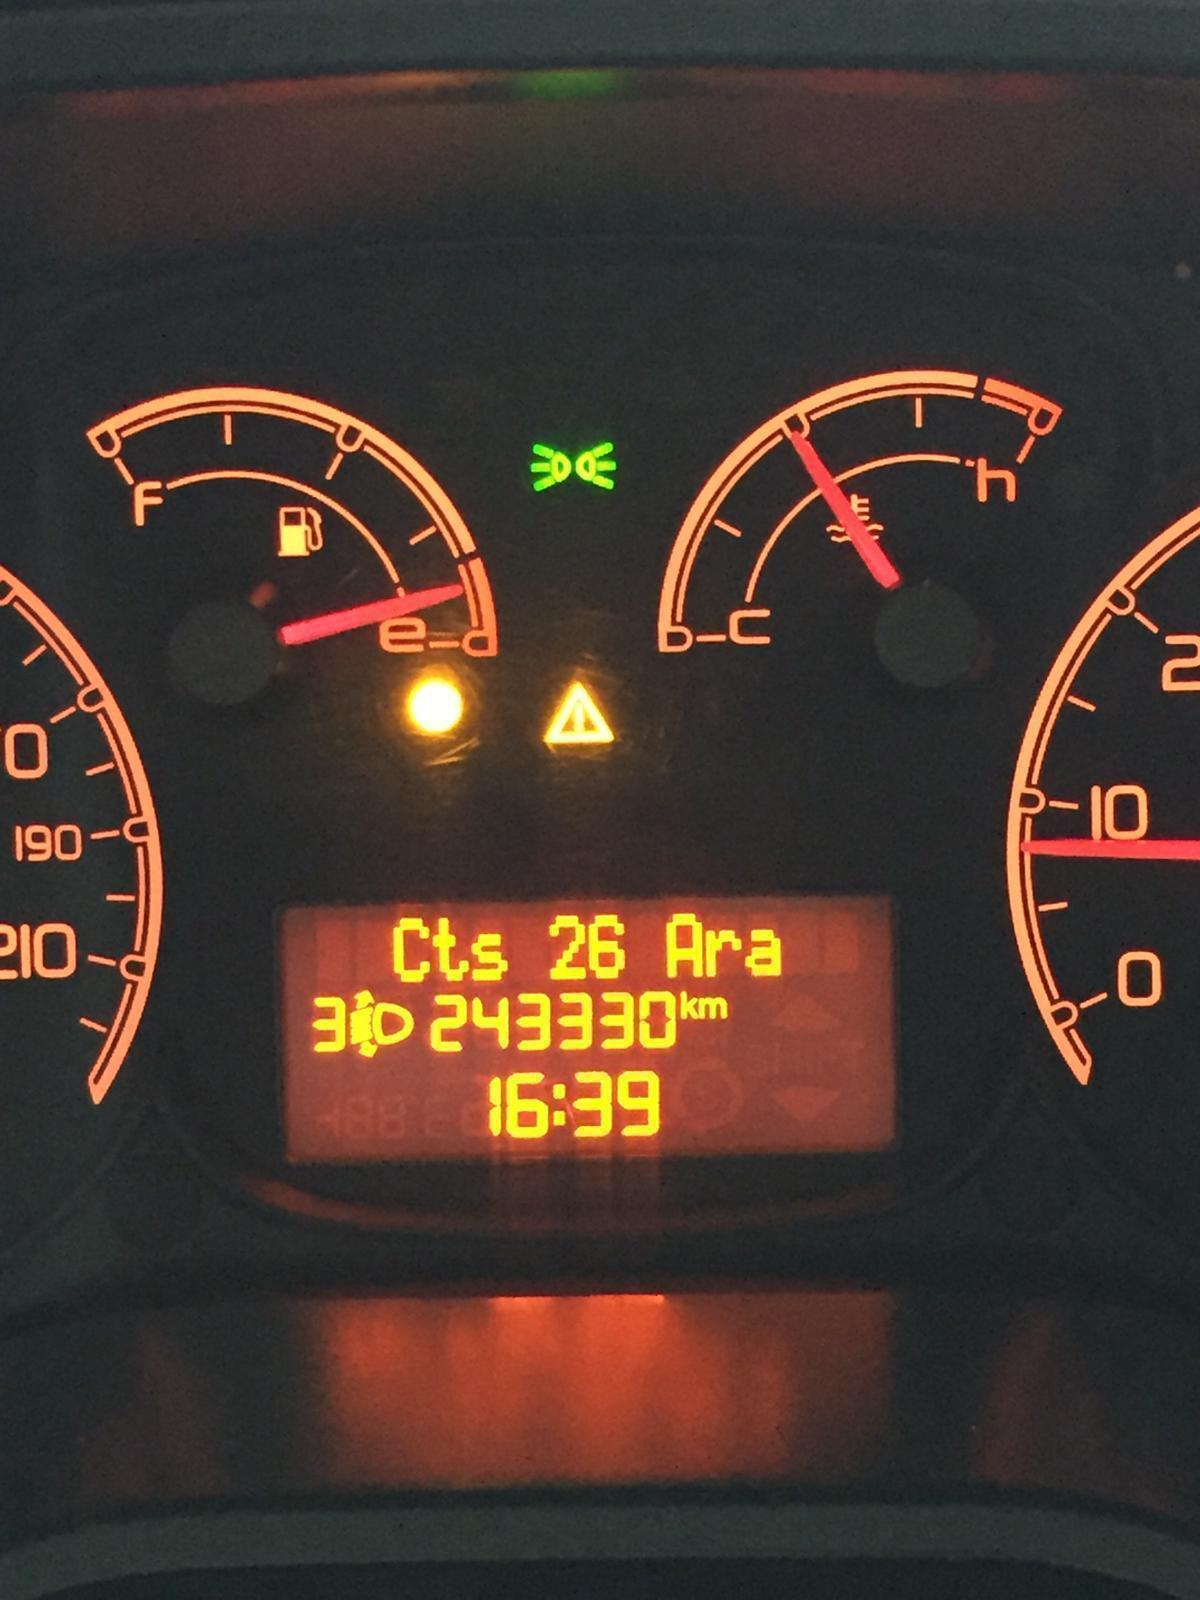0: (637, 986, 682, 1051)
1: (485, 1070, 504, 1139)
2: (548, 910, 587, 981), (429, 990, 469, 1052)
3: (571, 1068, 613, 1140), (308, 991, 349, 1056), (516, 988, 553, 1052), (558, 989, 595, 1051), (601, 989, 634, 1052)
4: (473, 991, 512, 1049)
6: (504, 1070, 548, 1140), (587, 911, 629, 980)
9: (616, 1067, 663, 1139)
X: (663, 910, 707, 979), (389, 915, 431, 981), (434, 915, 471, 981), (471, 929, 509, 981), (706, 922, 741, 976), (747, 926, 783, 978), (550, 1078, 568, 1129), (698, 991, 727, 1020), (677, 989, 697, 1020)
odometer: (275, 902, 897, 1157)
